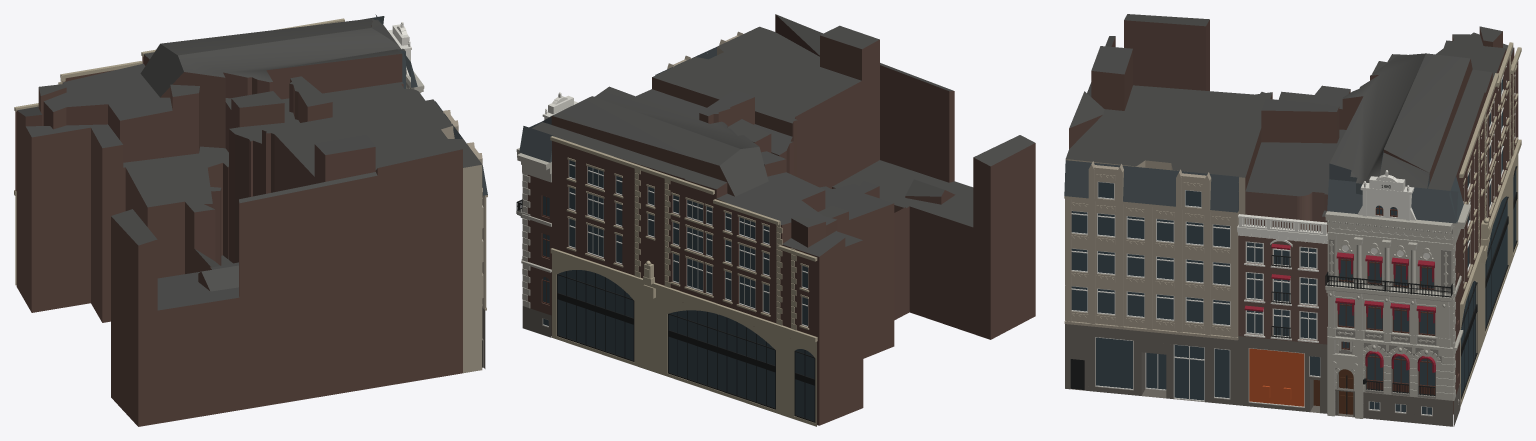
Rendered from cafe-riche-rokin.glb.
3 renders of one model, left to right at view 1: azimuth 30°, elevation 25°; view 2: azimuth 150°, elevation 25°; view 3: azimuth 270°, elevation 25°, orthographic. The views are drawn at different scales.
Visible parts, largest first — view 1: cafe-riche-rokin; view 2: cafe-riche-rokin; view 3: cafe-riche-rokin.
Part boxes in pixels (x1=…): cafe-riche-rokin: x1=14, y1=14, x2=487, y2=426; cafe-riche-rokin: x1=516, y1=14, x2=1035, y2=426; cafe-riche-rokin: x1=1064, y1=14, x2=1521, y2=426.
Bounding box in the file's own units: 38.04 × 21.78 × 34.08.
